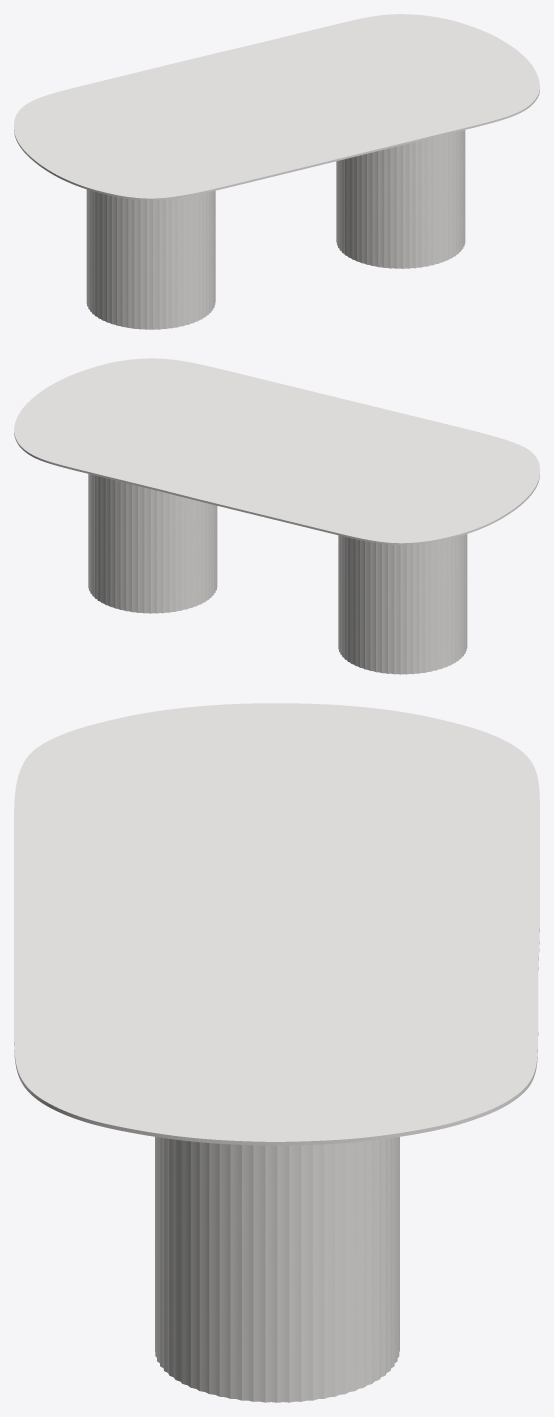
The model's file is purewhite_oval_facet_ripplesecond.glb.
3 views of the same model, one above another, from view 1: azimuth 30°, elevation 25°; view 2: azimuth 150°, elevation 25°; view 3: azimuth 270°, elevation 25° (orthographic). The views are drawn at different scales.
Visible parts, largest first — view 1: facet_oval, ripplesecond; view 2: facet_oval, ripplesecond; view 3: facet_oval, ripplesecond.
Part boxes in pixels (box(x1,y1,x2,y2)): facet_oval: box(14, 14, 539, 200); ripplesecond: box(86, 130, 465, 329); facet_oval: box(14, 358, 539, 545); ripplesecond: box(88, 474, 467, 674); facet_oval: box(14, 703, 539, 1145); ripplesecond: box(155, 1137, 399, 1402).
Size of the model in its own units: 7.5 by 2.5 by 3.8.
Materials: 1 (1 with a texture image).
